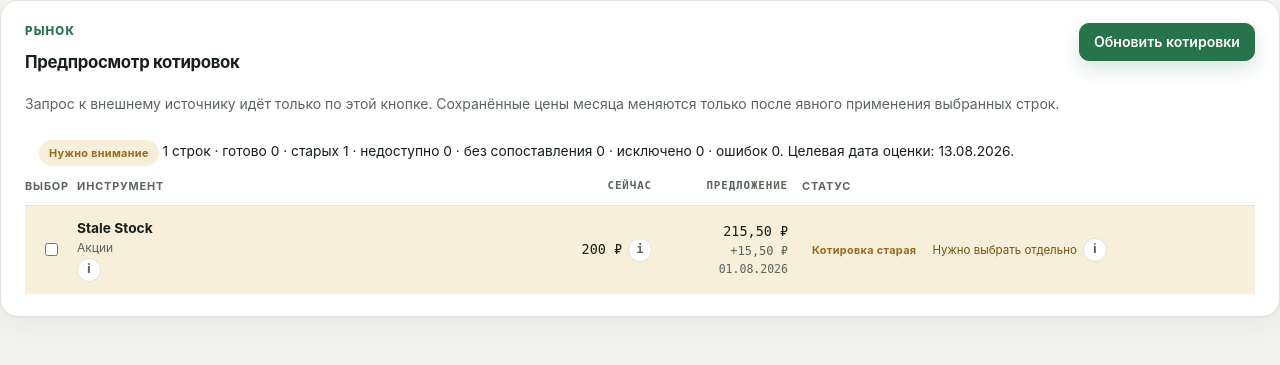
Test: QuotePreviewPanel › marks stale rows as old and not default-applicable
Expected: the text "Stale Stock" shows "Котировка старая", x1=812 y1=243 x2=916 y2=257
Expected: the text "Stale Stock" shows "Нужно выбрать отдельно", x1=932 y1=243 x2=1077 y2=257
Click the button named "Подробности статуса для Stale Stock": (1095, 250) x1=1083 y1=238 x2=1107 y2=262
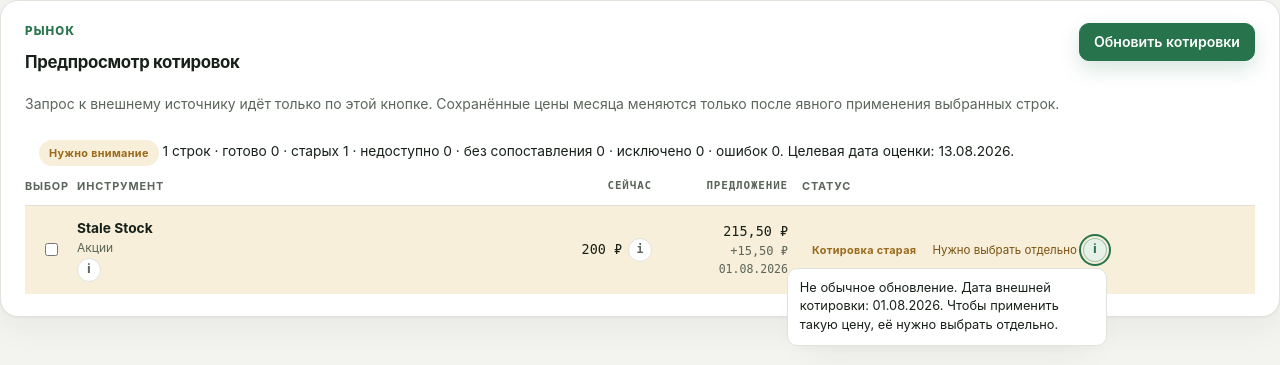
Expected: the checkbox named "Выбрать старую котировку Stale Stock" is not checked, x1=29 y1=243 x2=74 y2=256
Expected: the tooltip shows "Не обычное обновление", x1=800 y1=280 x2=1051 y2=313
